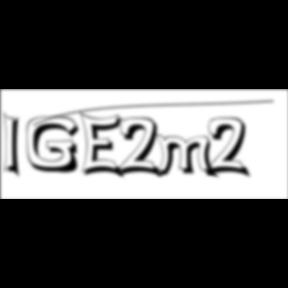2: (117, 117, 167, 181), (205, 117, 255, 181)
E: (79, 110, 128, 182)
G: (26, 116, 86, 176)
I: (4, 110, 28, 182)
m: (153, 132, 221, 181)
